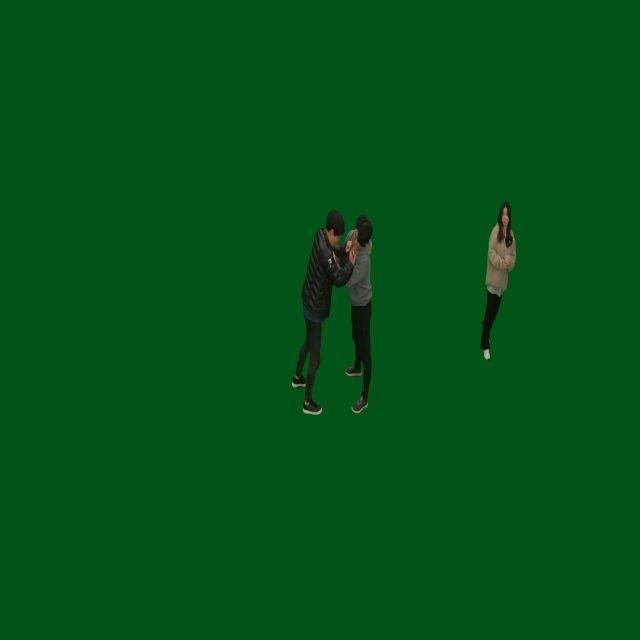fight: (292, 207, 377, 418)
non-fight: (477, 200, 516, 360)
